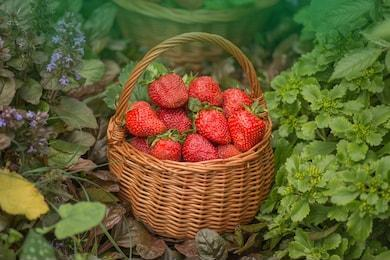Fresa: (227, 108, 271, 155), (145, 70, 192, 113), (191, 104, 234, 149), (121, 103, 169, 140), (179, 131, 221, 164)
